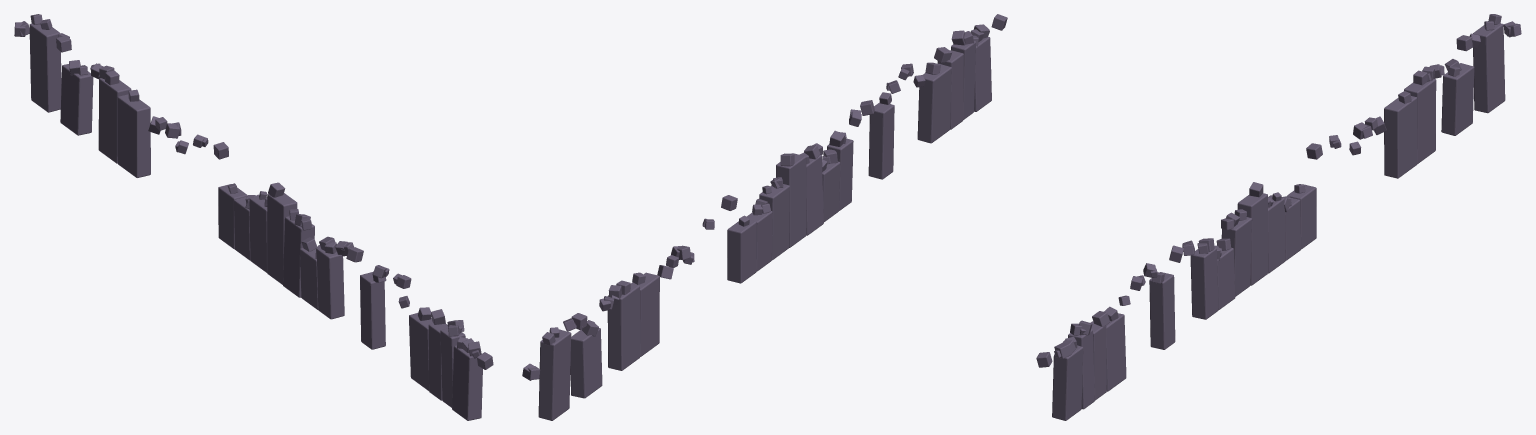
Rendered from WallsE_Stone.fbx.
3 renders of one model, left to right at view 1: azimuth 30°, elevation 25°; view 2: azimuth 150°, elevation 25°; view 3: azimuth 330°, elevation 25°, orthographic.
Parts seen in each view (by area): view 1: WallCrown-1_-30_0.001; view 2: WallCrown-1_-30_0.001; view 3: WallCrown-1_-30_0.001.
Part boxes in pixels (x1,y1,x2,y2): WallCrown-1_-30_0.001: [14, 14, 493, 420]; WallCrown-1_-30_0.001: [522, 14, 1007, 420]; WallCrown-1_-30_0.001: [1036, 14, 1521, 420].
Size of the model in its own units: 620 by 2719 by 25600.
